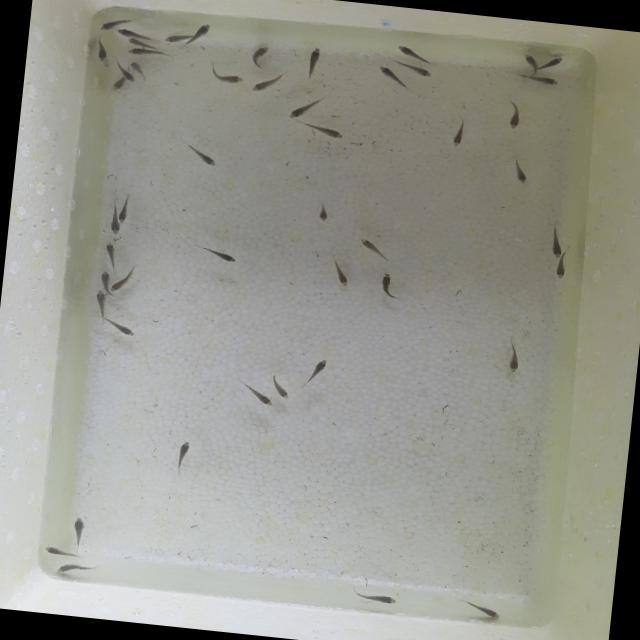fingerling: (64, 510, 96, 544), (506, 158, 538, 188), (300, 42, 326, 78), (373, 60, 408, 86), (369, 270, 398, 300), (284, 97, 318, 122), (245, 385, 278, 410), (446, 116, 468, 152), (395, 42, 434, 62), (250, 72, 284, 94), (299, 358, 325, 384), (552, 254, 576, 282), (186, 21, 216, 43), (461, 601, 499, 618), (501, 346, 522, 375), (312, 128, 353, 142), (357, 232, 385, 252), (250, 40, 273, 64), (329, 259, 350, 285), (98, 238, 119, 264), (204, 245, 236, 262), (539, 53, 571, 70), (52, 561, 88, 576), (103, 318, 136, 334), (92, 290, 114, 314), (102, 214, 125, 236), (408, 62, 436, 80), (209, 70, 245, 84), (42, 544, 78, 558), (529, 72, 560, 88), (173, 441, 190, 470), (193, 149, 220, 167), (96, 14, 120, 34), (268, 376, 290, 397), (550, 233, 566, 261), (114, 66, 138, 84), (104, 74, 125, 94), (108, 276, 130, 295), (124, 45, 158, 57), (356, 594, 396, 604), (114, 26, 140, 41), (92, 44, 109, 66), (162, 31, 186, 46), (506, 104, 520, 129), (128, 58, 146, 76), (114, 198, 128, 220), (519, 50, 537, 66), (123, 37, 149, 48), (98, 265, 111, 287), (315, 204, 329, 224)
